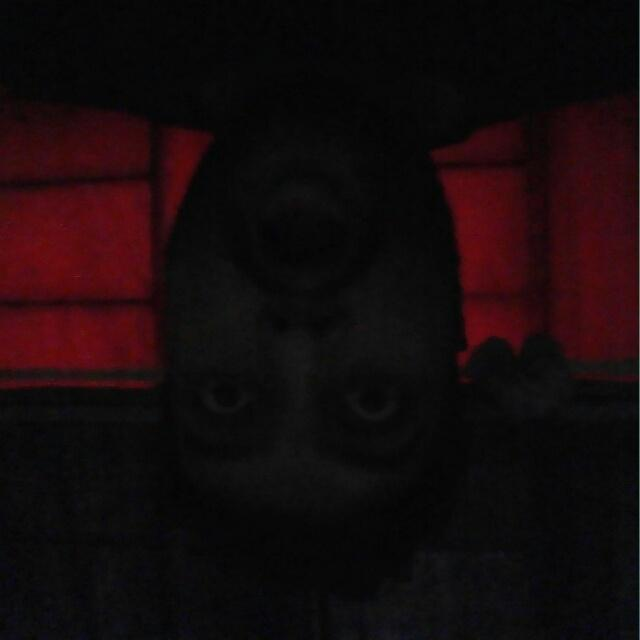Surprised: (145, 74, 478, 576)
